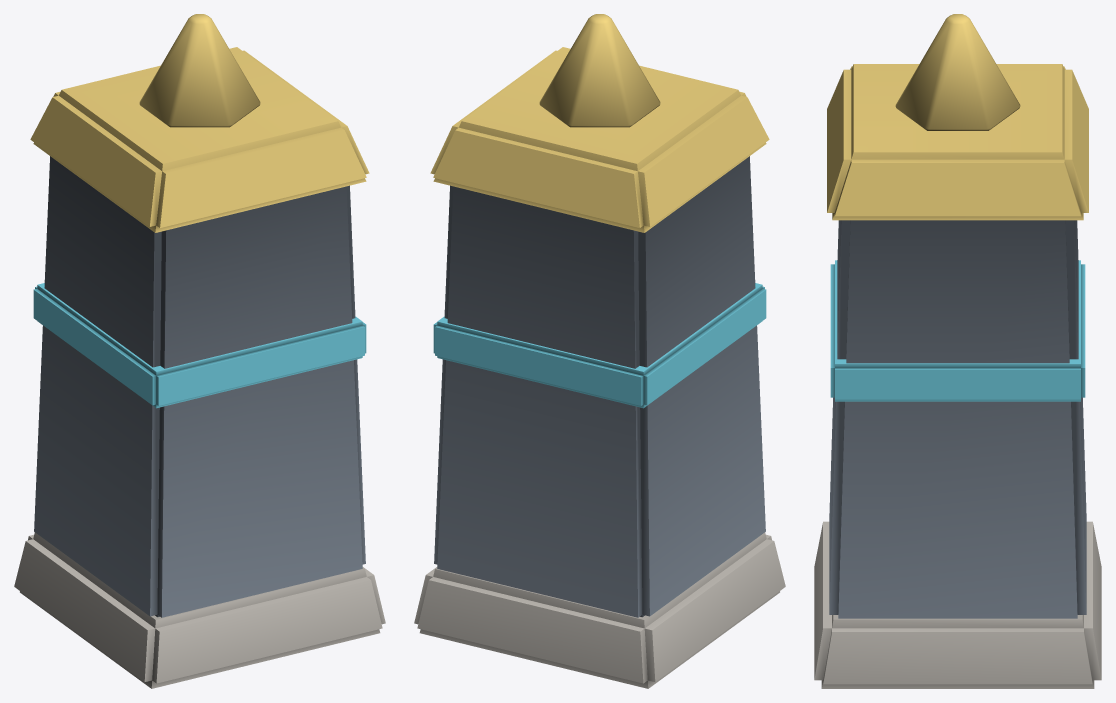
Rendered from wall_lv3_pillar_lod0.glb.
3 renders of one model, left to right at view 1: azimuth 30°, elevation 25°; view 2: azimuth 150°, elevation 25°; view 3: azimuth 270°, elevation 25°, orthographic. The views are drawn at different scales.
Visible parts, largest first — view 1: wall_lv3_pillar; view 2: wall_lv3_pillar; view 3: wall_lv3_pillar.
Boxes of the visible parts, x1,y1,x2,y2 form: wall_lv3_pillar: (14,14,385,688); wall_lv3_pillar: (414,14,785,688); wall_lv3_pillar: (814,14,1101,688).
Size of the model in its own units: 0.9703 by 2.29 by 0.9703.
